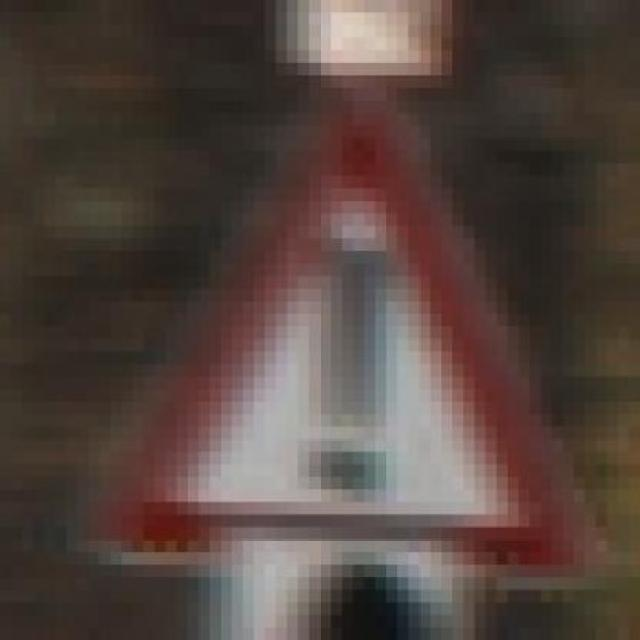Attention Please-: (56, 100, 618, 565)
